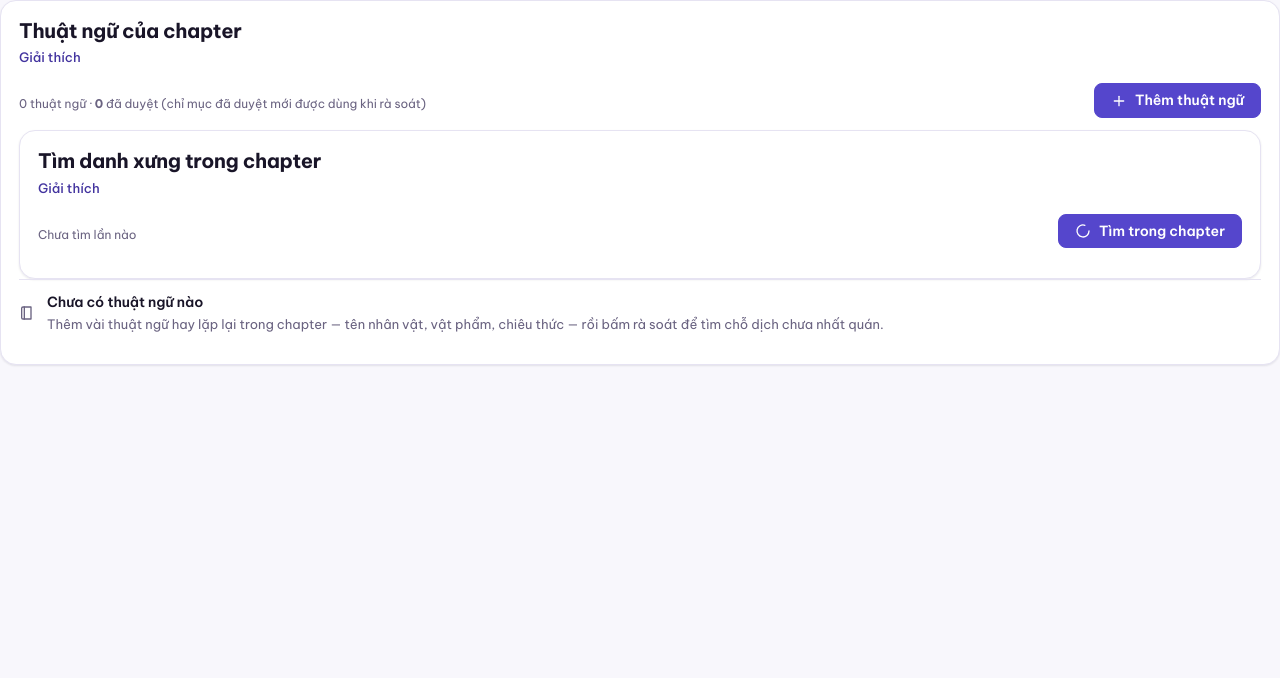
it: E17 — nối vào form thuật ngữ › điền sẵn thuật ngữ gốc nhưng để TRỐNG cách dịch và giải nghĩa
What coordinates should you click on to do the following:
click the button "Tìm trong chapter"
I would click on:
 (1150, 231)
Its box is [1058,214,1242,248].
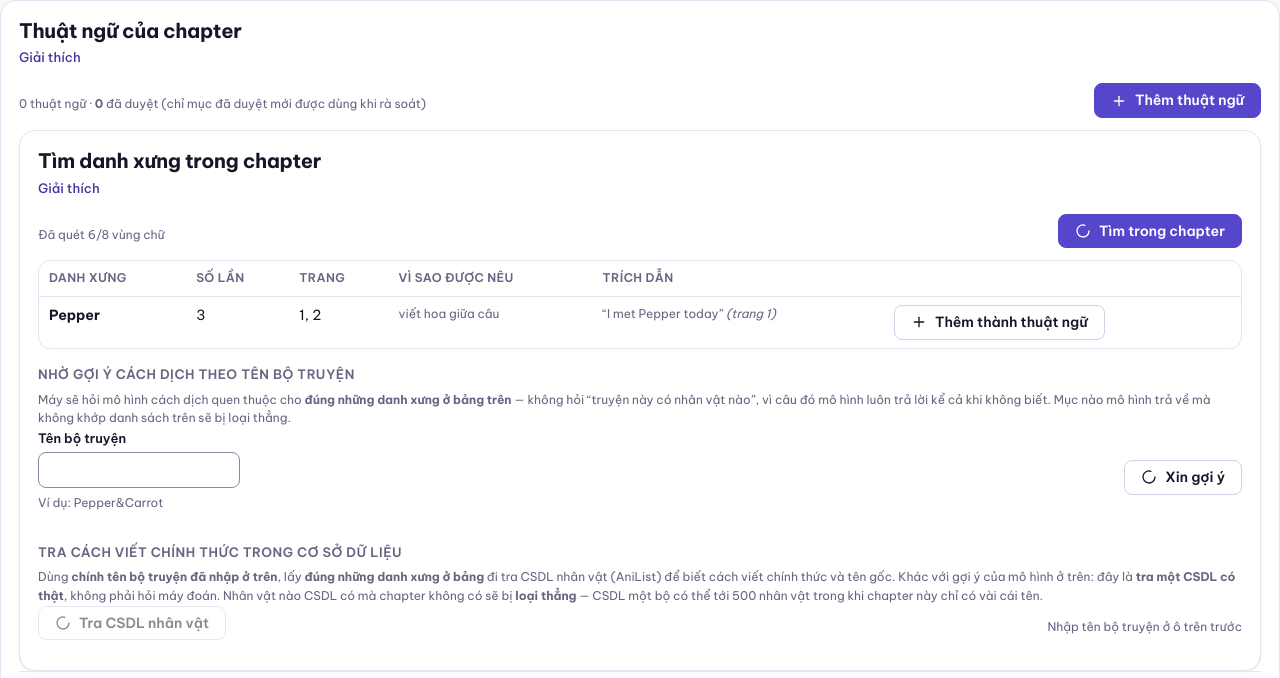
Result: the text "Pepper" is shown at [49,306,100,324]
What coordinates should you click on to do the following:
click the button "Thêm thành thuật ngữ"
I would click on:
 (999, 322)
Its box is [894,305,1104,340].
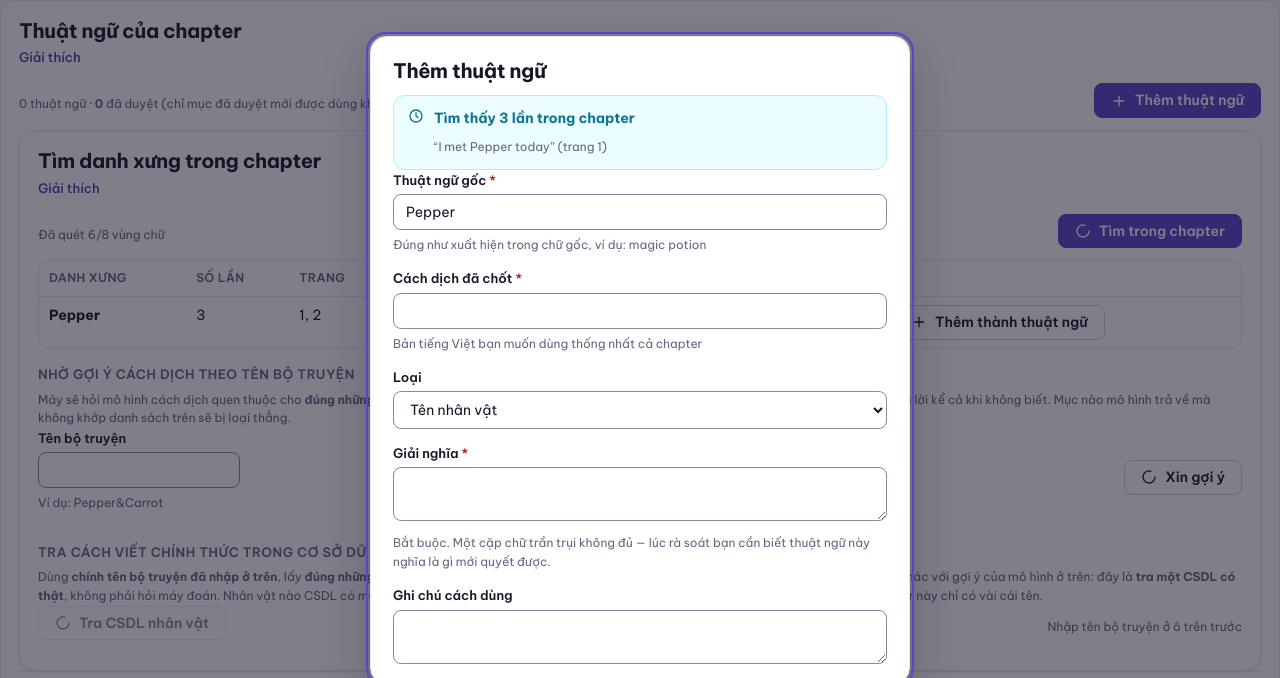
Expected: the text box labelled "Giải nghĩa *" is empty, [393,467,887,521]
Result: the field labelled "Thuật ngữ gốc *" holds "Pepper" at [393,194,887,230]
Result: the field labelled "Cách dịch đã chốt *" is empty at [393,292,887,328]
